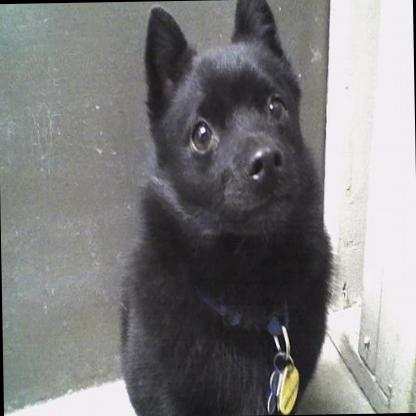schipperke: (110, 0, 334, 414)
